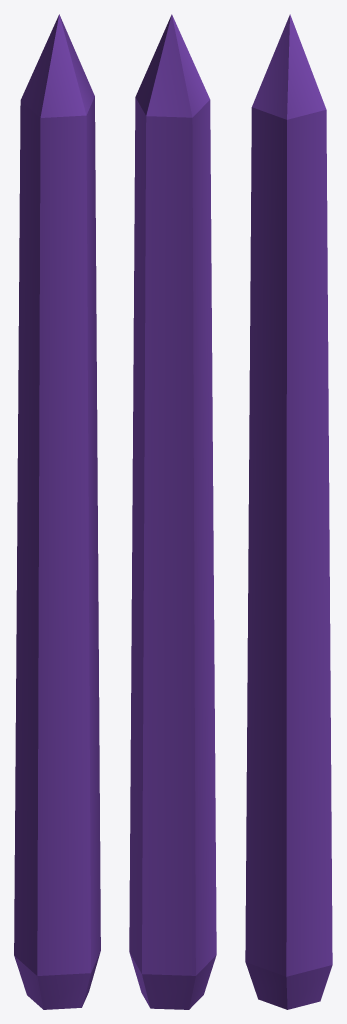
Rendered from 2065_LightningCage_Overall_CageColumn.fbx.
3 renders of one model, left to right at view 1: azimuth 90°, elevation 25°; view 2: azimuth 150°, elevation 25°; view 3: azimuth 330°, elevation 25°, orthographic.
Parts seen in each view (by area): view 1: PART_SlenderElectroCagePillar; view 2: PART_SlenderElectroCagePillar; view 3: PART_SlenderElectroCagePillar.
Boxes of the visible parts, bbox=[...] form: PART_SlenderElectroCagePillar: bbox=[14, 14, 100, 1009]; PART_SlenderElectroCagePillar: bbox=[129, 14, 216, 1009]; PART_SlenderElectroCagePillar: bbox=[245, 14, 332, 1009].
Size of the model in its own units: 26.18 by 330 by 26.4.
